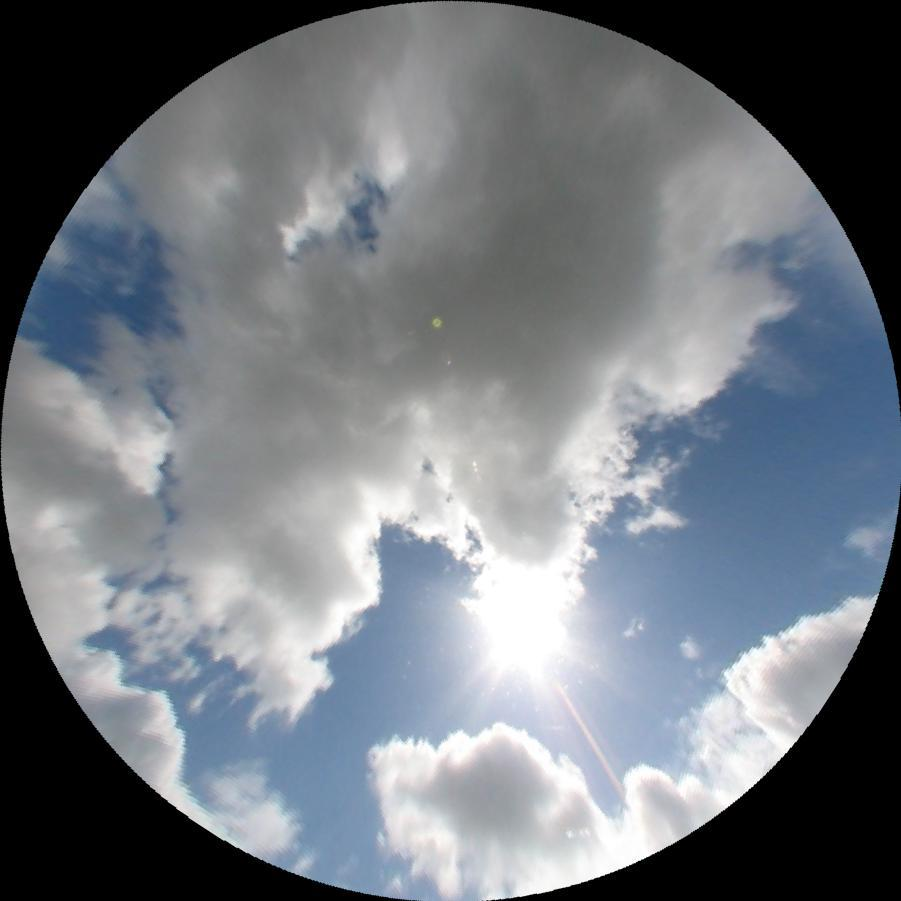contrail young: (531, 723, 563, 731)
parasite: (553, 682, 628, 798)
sun: (452, 551, 579, 674)
